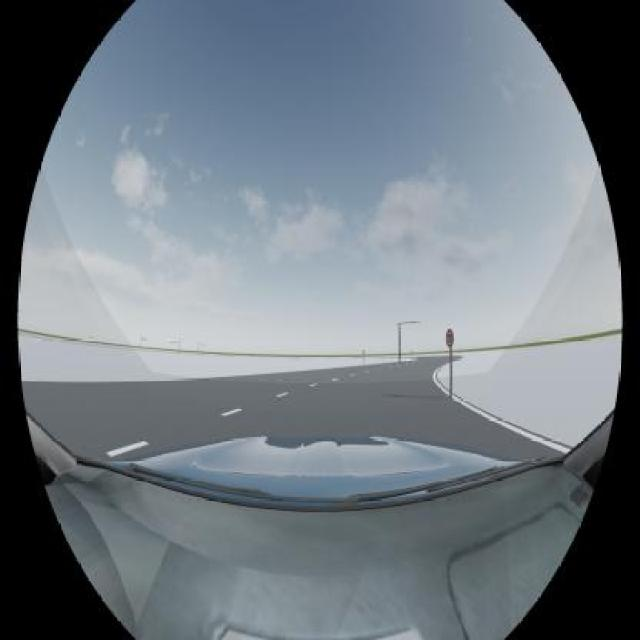forb_speed_over_120: (446, 330, 455, 347)
